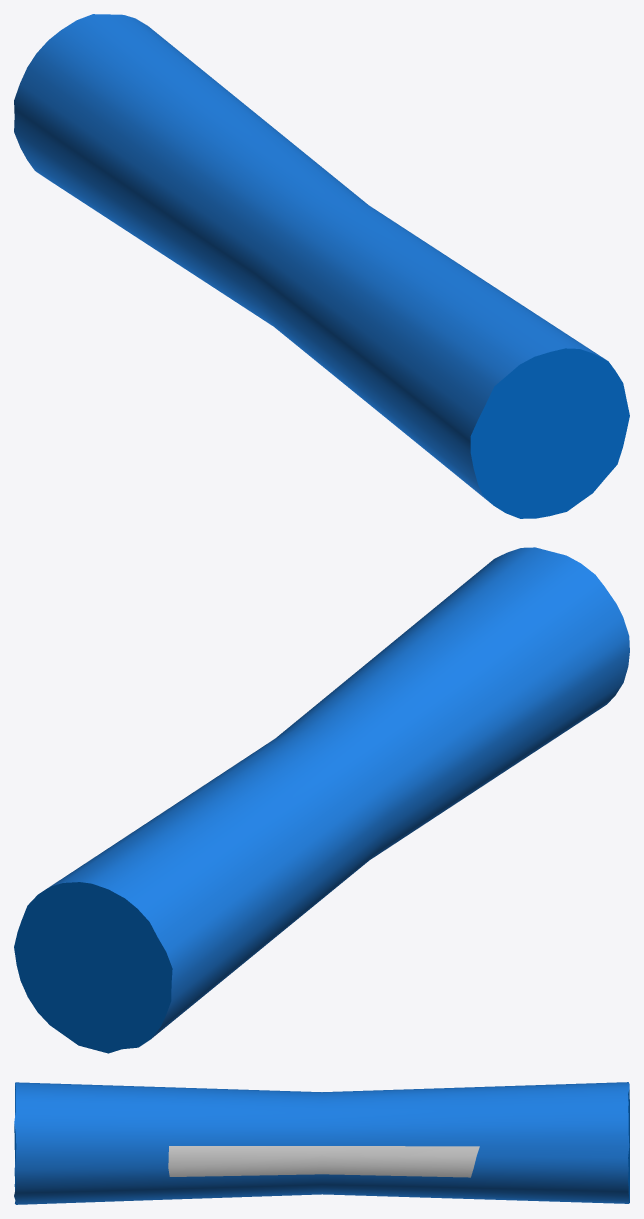
File: mint_candies 1.fbx
3 views of the same model, one above another, from view 1: azimuth 30°, elevation 25°; view 2: azimuth 150°, elevation 25°; view 3: azimuth 270°, elevation 25° (orthographic). The views are drawn at different scales.
Visible parts, largest first — view 1: Cylinder; view 2: Cylinder; view 3: Cylinder.
Boxes of the visible parts, box(x1,y1,x2,y2) form: Cylinder: box(14, 14, 629, 518); Cylinder: box(14, 547, 629, 1053); Cylinder: box(14, 1082, 629, 1204).
Size of the model in its own units: 201 by 201 by 1004.
